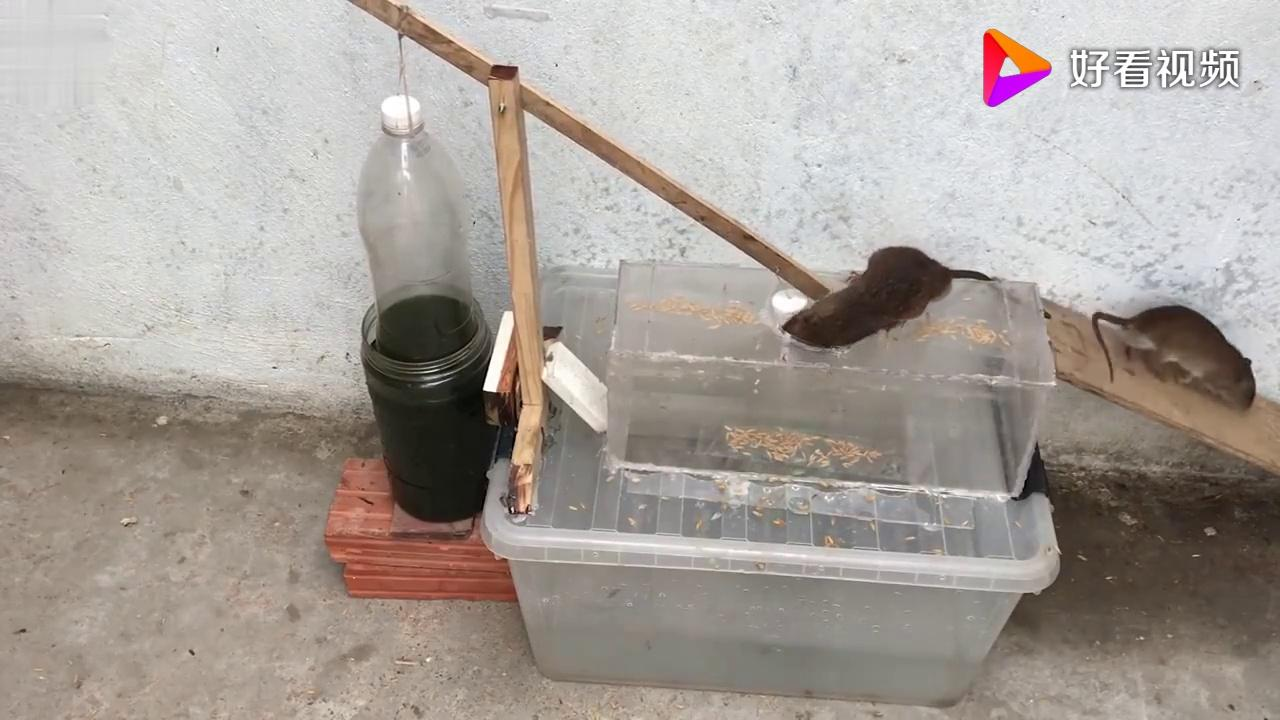rat: (777, 227, 976, 358), (1102, 294, 1263, 416)
